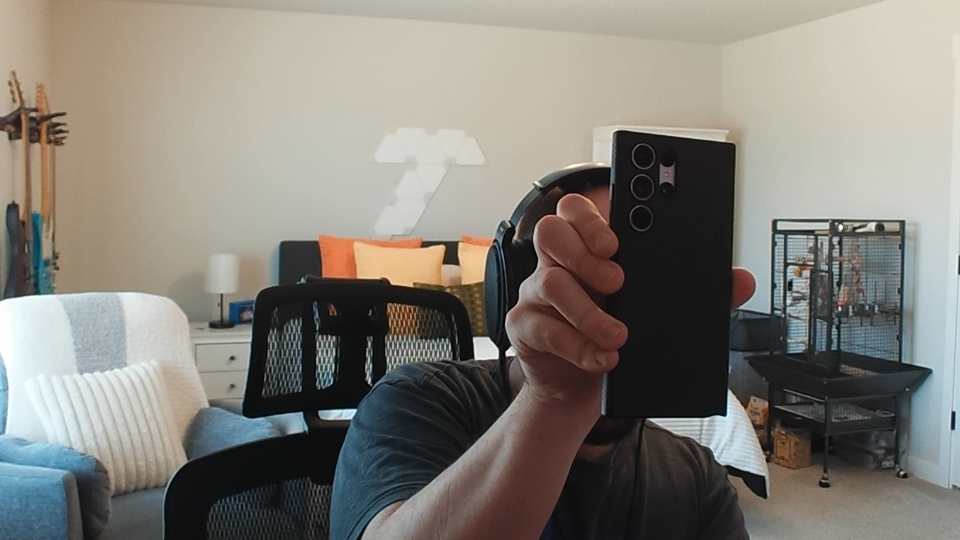MobilePhone: (600, 129, 738, 416)
